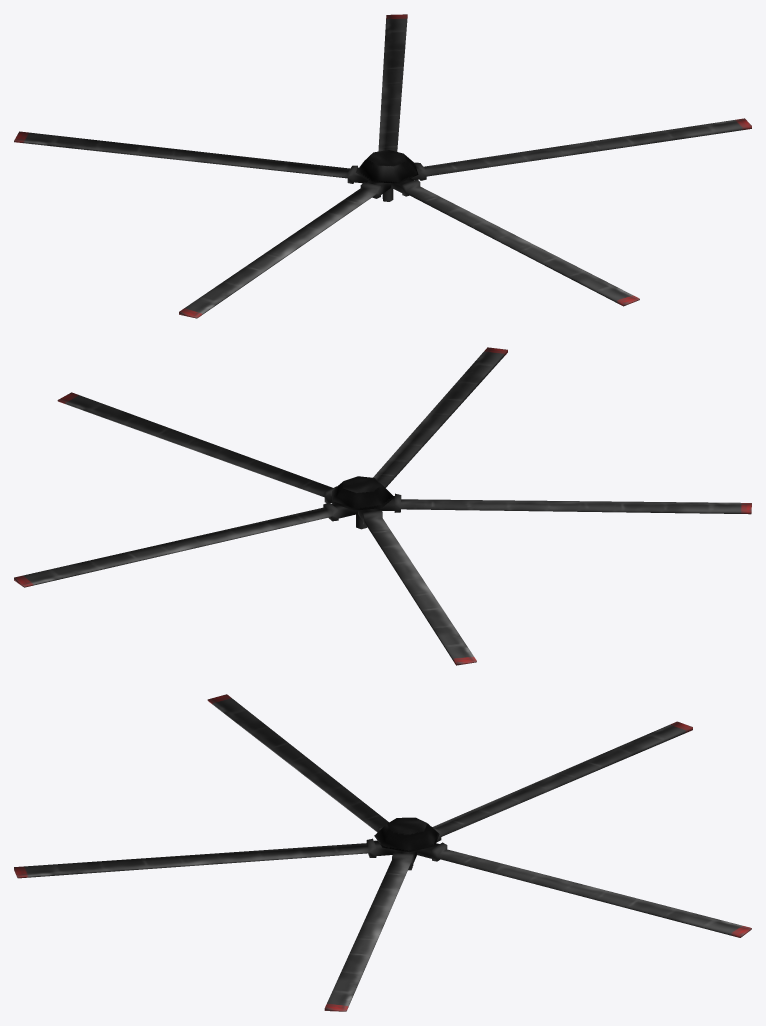
Rendered from player_helicopter_vint.glb.
3 renders of one model, top to bottom at view 1: azimuth 30°, elevation 25°; view 2: azimuth 150°, elevation 25°; view 3: azimuth 270°, elevation 25°, orthographic. The views are drawn at different scales.
Parts seen in each view (by area): view 1: MD_501:Top_rotor; view 2: MD_501:Top_rotor; view 3: MD_501:Top_rotor.
Boxes of the visible parts, <box> form: MD_501:Top_rotor: <box>14,14,751,318</box>; MD_501:Top_rotor: <box>14,347,751,665</box>; MD_501:Top_rotor: <box>14,694,751,1011</box>.
Size of what is drawn, in the model's own units: 8.22 by 0.5228 by 8.13.
Materials: 1 (1 with a texture image).
